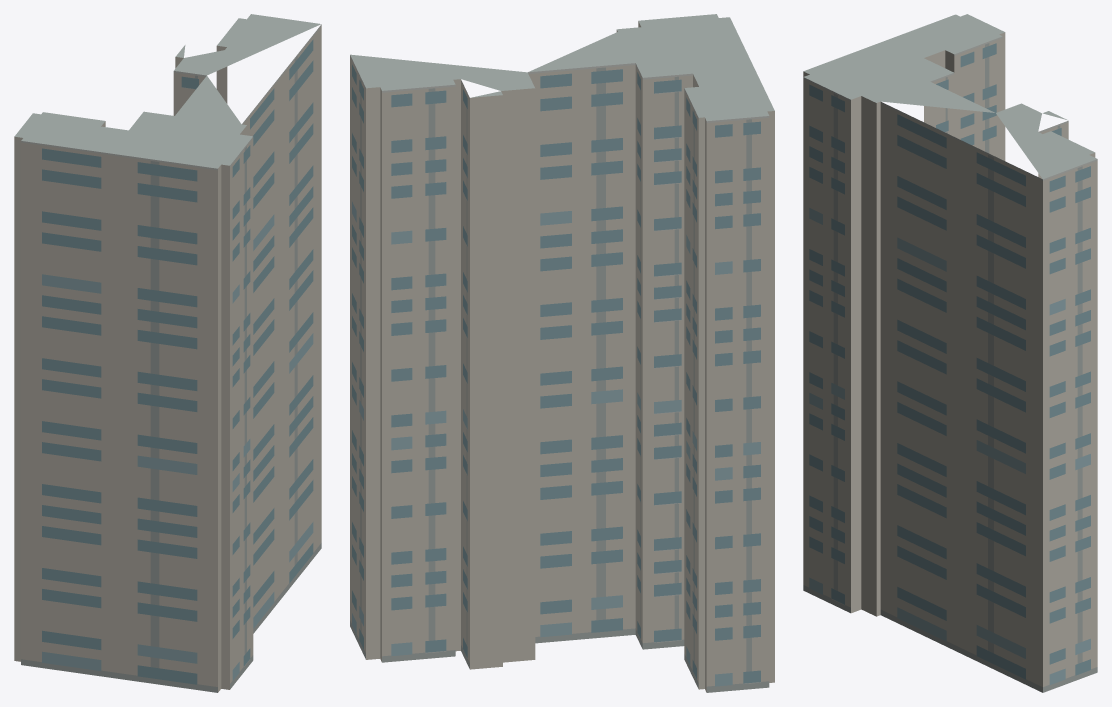
The model's file is residential-cb110d1e-f464-4a26-913b-13742090f3a9.glb.
3 views of the same model, side by side, from view 1: azimuth 30°, elevation 25°; view 2: azimuth 150°, elevation 25°; view 3: azimuth 270°, elevation 25° (orthographic). The views are drawn at different scales.
Visible parts, largest first — view 1: residential-cb110d1e-f464-4a26-913b-13742090f3a9.tmp; view 2: residential-cb110d1e-f464-4a26-913b-13742090f3a9.tmp; view 3: residential-cb110d1e-f464-4a26-913b-13742090f3a9.tmp.
Part boxes in pixels (left/top/right/bottom): residential-cb110d1e-f464-4a26-913b-13742090f3a9.tmp: left=14, top=14, right=321, bottom=692; residential-cb110d1e-f464-4a26-913b-13742090f3a9.tmp: left=350, top=14, right=774, bottom=692; residential-cb110d1e-f464-4a26-913b-13742090f3a9.tmp: left=803, top=14, right=1097, bottom=692.
Bounding box in the file's own units: 52.49 × 76 × 39.49.
